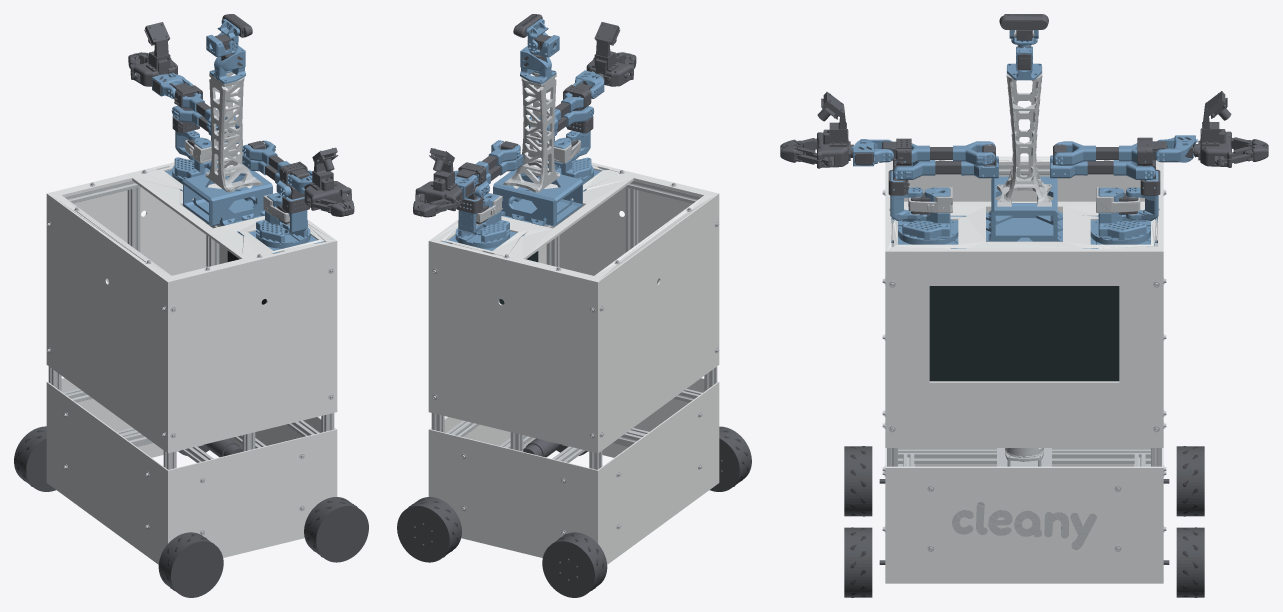
The model's file is cleany-c32c3074-articulated.glb.
3 views of the same model, side by side, from view 1: azimuth 30°, elevation 25°; view 2: azimuth 150°, elevation 25°; view 3: azimuth 270°, elevation 25° (orthographic). The views are drawn at different scales.
Visible parts, largest first — view 1: cad-geometry-3, cad-geometry-0, cad-geometry-5, cad-geometry-6, cad-geometry-53, cad-geometry-79, cad-geometry-1, cad-geometry-38, cad-geometry-25, cad-geometry-40, cad-geometry-33, cad-geometry-34 (+5 smaller); view 2: cad-geometry-3, cad-geometry-0, cad-geometry-5, cad-geometry-6, cad-geometry-40, cad-geometry-66, cad-geometry-1, cad-geometry-25, cad-geometry-38, cad-geometry-53, cad-geometry-20, cad-geometry-2 (+5 smaller); view 3: cad-geometry-3, cad-geometry-4, cad-geometry-0, cad-geometry-1, cad-geometry-6, cad-geometry-5, cad-geometry-25, cad-geometry-38, cad-geometry-66, cad-geometry-79, cad-geometry-40, cad-geometry-53 (+11 smaller).
Part boxes in pixels (x1,y1,x2,y2): cad-geometry-3: [46, 158, 337, 564]; cad-geometry-0: [46, 140, 334, 535]; cad-geometry-5: [183, 45, 272, 226]; cad-geometry-6: [205, 72, 262, 192]; cad-geometry-53: [158, 532, 223, 597]; cad-geometry-79: [304, 497, 368, 562]; cad-geometry-1: [165, 137, 324, 253]; cad-geometry-38: [304, 147, 354, 216]; cad-geometry-25: [128, 22, 177, 86]; cad-geometry-40: [14, 426, 55, 491]; cad-geometry-33: [268, 155, 309, 185]; cad-geometry-34: [242, 140, 289, 184]; cad-geometry-3: [428, 158, 719, 564]; cad-geometry-0: [431, 140, 718, 535]; cad-geometry-5: [493, 46, 582, 226]; cad-geometry-6: [503, 72, 560, 192]; cad-geometry-40: [542, 532, 607, 597]; cad-geometry-66: [397, 497, 461, 562]; cad-geometry-1: [442, 137, 606, 250]; cad-geometry-25: [413, 148, 462, 217]; cad-geometry-38: [586, 22, 636, 86]; cad-geometry-53: [710, 426, 751, 491]; cad-geometry-20: [456, 155, 497, 186]; cad-geometry-2: [476, 139, 578, 457]; cad-geometry-3: [885, 156, 1163, 583]; cad-geometry-4: [929, 286, 1119, 381]; cad-geometry-0: [882, 160, 1166, 551]; cad-geometry-1: [891, 187, 1157, 248]; cad-geometry-6: [997, 66, 1051, 206]; cad-geometry-5: [986, 46, 1062, 241]; cad-geometry-25: [1193, 91, 1268, 167]; cad-geometry-38: [780, 92, 853, 168]; cad-geometry-66: [1176, 527, 1204, 597]; cad-geometry-79: [844, 527, 872, 597]; cad-geometry-40: [1176, 446, 1204, 516]; cad-geometry-53: [844, 446, 872, 516].
Size of the model in its own units: 0.477 by 1.13 by 0.888.
